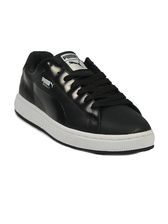shoes: (13, 47, 158, 155)
